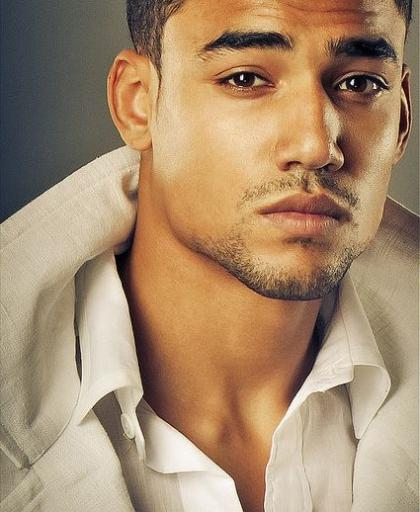left_eye: (335, 74, 390, 100)
left_lip_corner: (334, 201, 356, 228)
right_eye: (213, 67, 278, 96)
right_lip_corner: (254, 201, 273, 225)
